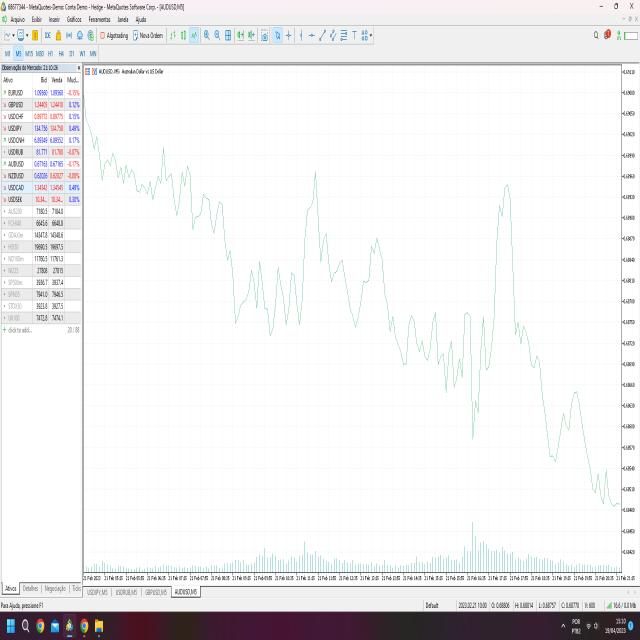oco: (476, 171, 544, 392)
